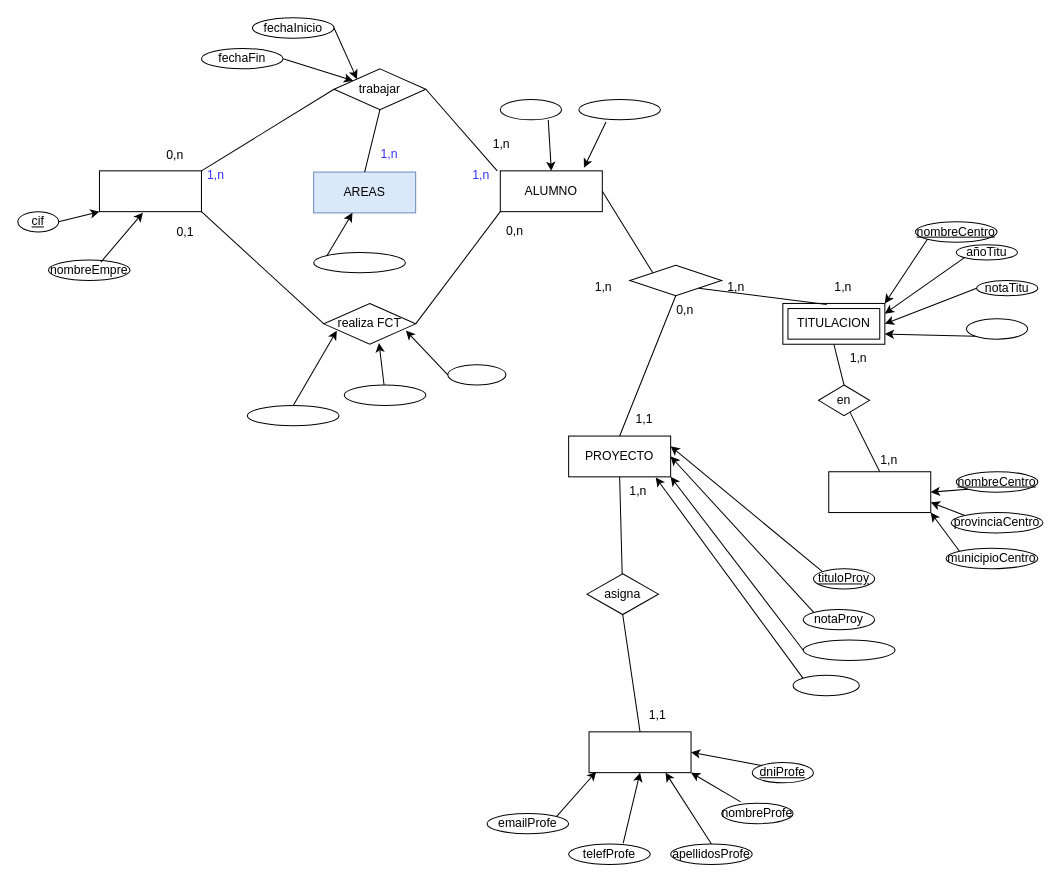
Image size: 1061x882. Some labels were removed from this diagram. The box of each missing label's shape, as (x1, y1, x2, y2) in pixels:
añoFCT: (447, 364, 506, 385)
CENTRO: (828, 471, 931, 513)
convocatoria: (343, 384, 426, 405)
descripcionProy: (802, 639, 895, 660)
dniAlum: (499, 98, 562, 120)
EMPRESA: (98, 170, 201, 212)
fechaProy: (792, 674, 859, 696)
nomArea: (313, 251, 405, 273)
nombreAlum: (578, 98, 660, 120)
numConvenio: (246, 404, 339, 426)
PROFESOR: (588, 731, 691, 773)
realiza: (629, 264, 722, 296)
tituloTitu: (965, 318, 1028, 339)
